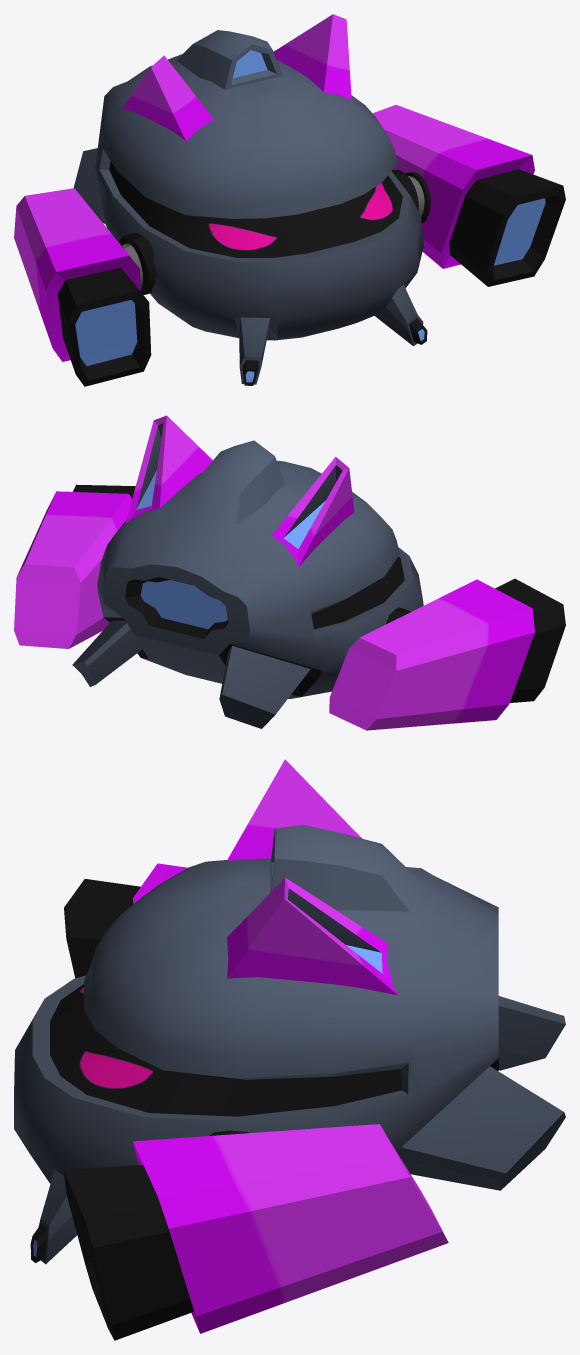
Rendered from monster2_v2.fbx.
The picture shows the model from 3 angles, top to bottom: view 1: azimuth 30°, elevation 25°; view 2: azimuth 150°, elevation 25°; view 3: azimuth 270°, elevation 25°; orthographic projection. The views are drawn at different scales.
Visible parts, largest first — view 1: m_v2_2; view 2: m_v2_2; view 3: m_v2_2.
Part boxes in pixels (box(x1,y1,x2,y2)): m_v2_2: box(14, 14, 565, 386); m_v2_2: box(14, 415, 565, 730); m_v2_2: box(14, 759, 565, 1340).
Size of the model in its own units: 225 by 116 by 150.
1 material, 1 textured.
